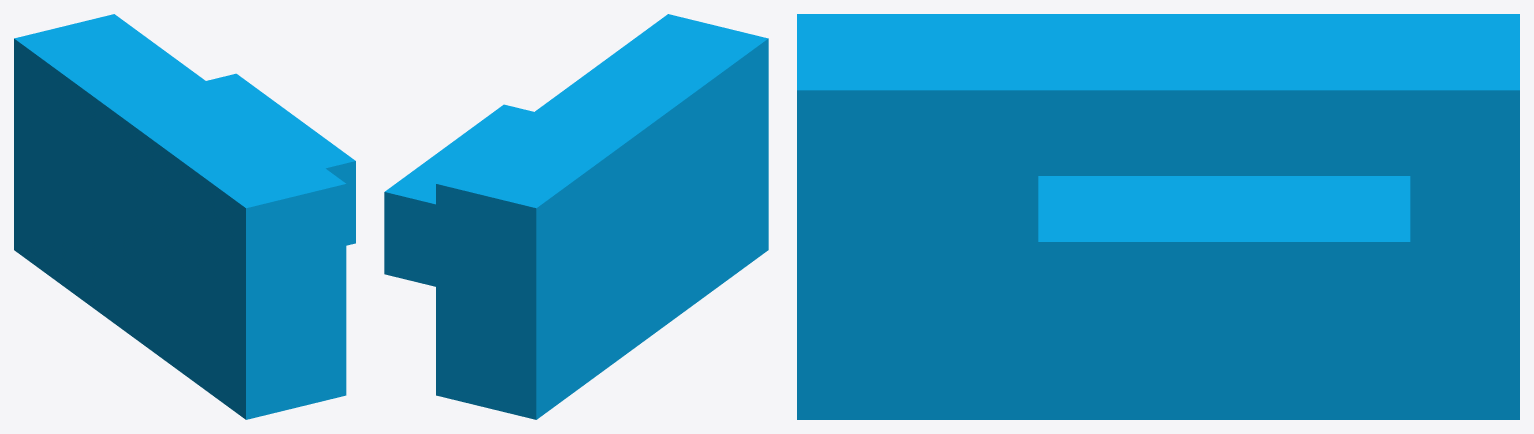
Rendered from gripper_collision.dae.
3 views of the same model, side by side, from view 1: azimuth 30°, elevation 25°; view 2: azimuth 150°, elevation 25°; view 3: azimuth 270°, elevation 25° (orthographic). The views are drawn at different scales.
Parts seen in each view (by area): view 1: Brep; view 2: Brep; view 3: Brep.
Part boxes in pixels (x1=…): Brep: x1=14, y1=14, x2=355, y2=419; Brep: x1=384, y1=14, x2=768, y2=419; Brep: x1=797, y1=14, x2=1519, y2=419.
Bounding box in the file's own units: 0.0503 × 0.108 × 0.0544.
